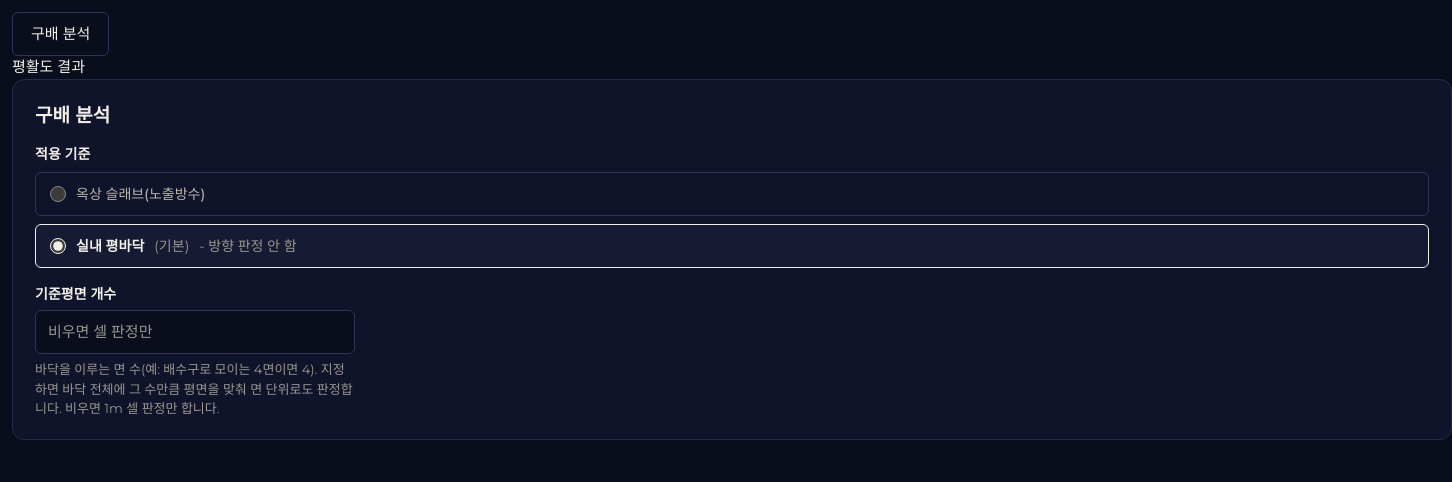
Test: 기준평면 개수 입력 (다면 기준평면) › 범위 밖 값이면 안내하고 버튼을 막는다
This screenshot has width=1452, height=482.
Expected: the text "실내 평바닥" is shown, [76, 236, 144, 256]
In the number field labelled "기준평면 개수": [195, 332] box [35, 310, 355, 354], type "0"
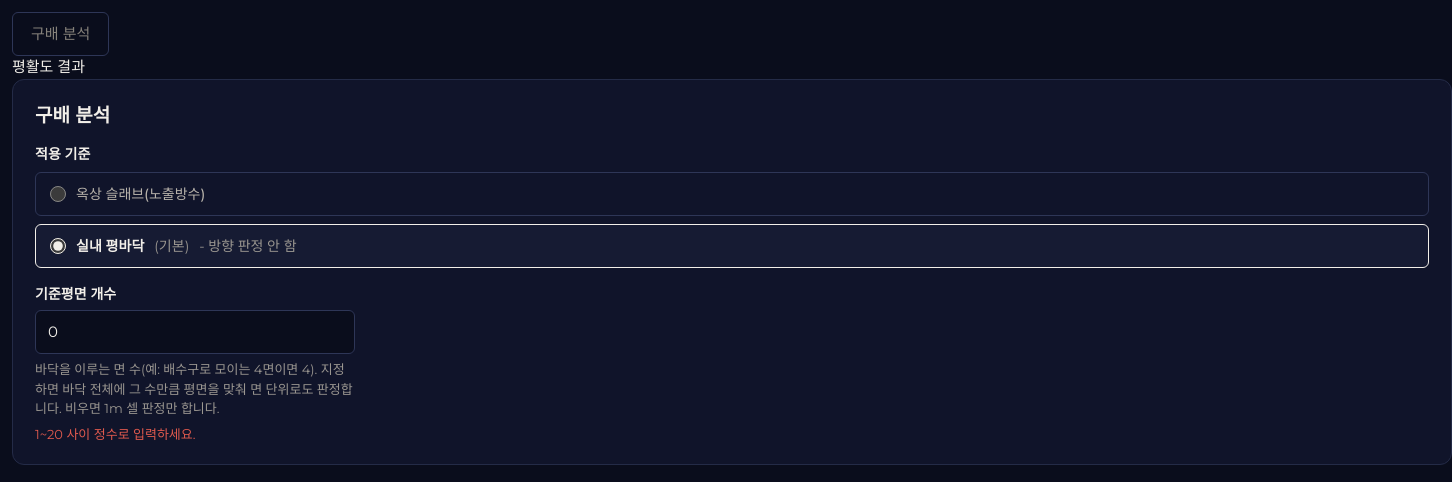
Result: the text "1~20 사이 정수로 입력하세요." is shown at [35, 426, 196, 442]
Result: the button "구배 분석" is disabled at [12, 12, 109, 56]
